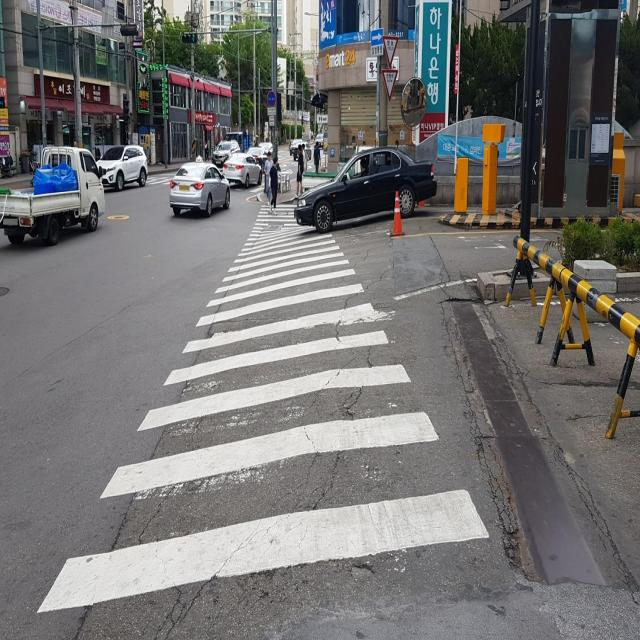횡단보도: (34, 197, 492, 618)
